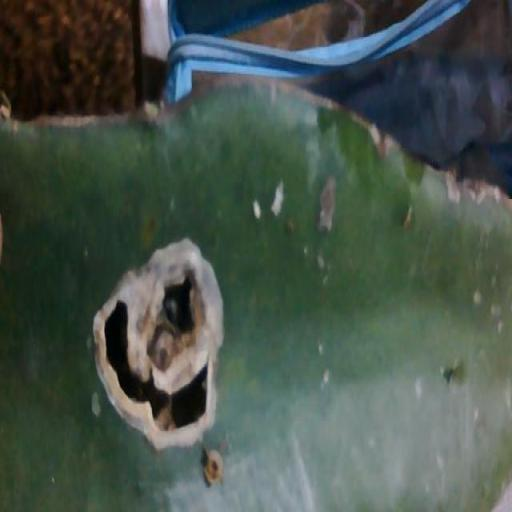stemcanker: (202, 162, 237, 236), (159, 253, 200, 293), (7, 304, 30, 364)
